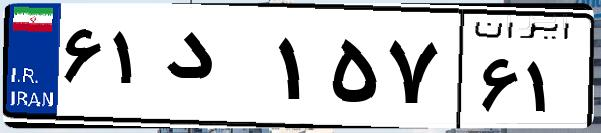1: (270, 28, 330, 110), (525, 38, 570, 115), (110, 28, 158, 98)
5: (330, 28, 385, 110)
6: (57, 26, 110, 100), (475, 38, 525, 113)
7: (385, 28, 445, 110)
د: (158, 20, 270, 120)
